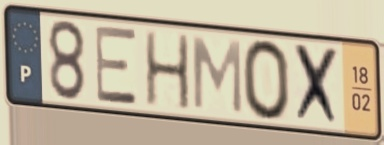8: (46, 18, 88, 104)
E: (92, 25, 141, 108)
H: (142, 29, 193, 114)
M: (190, 33, 245, 118)
O: (240, 36, 294, 124)
X: (292, 40, 343, 131)
